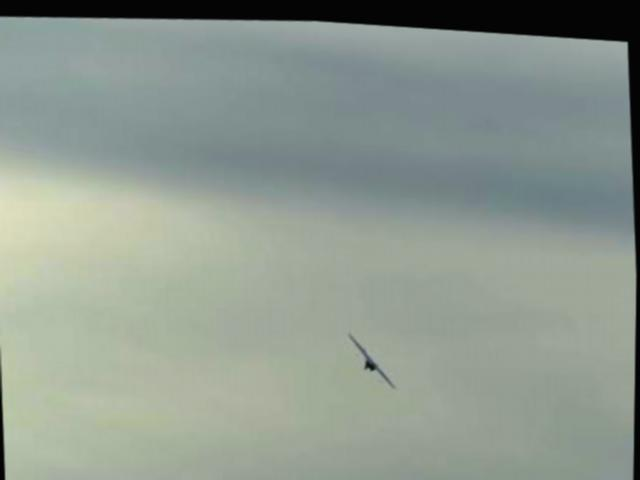uav: (342, 320, 404, 389)
